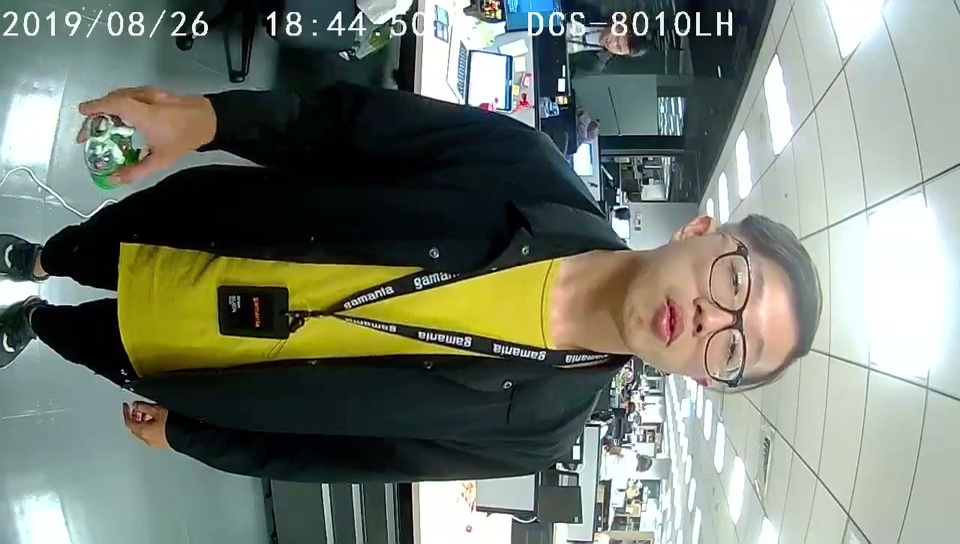buzz: (84, 114, 142, 193)
